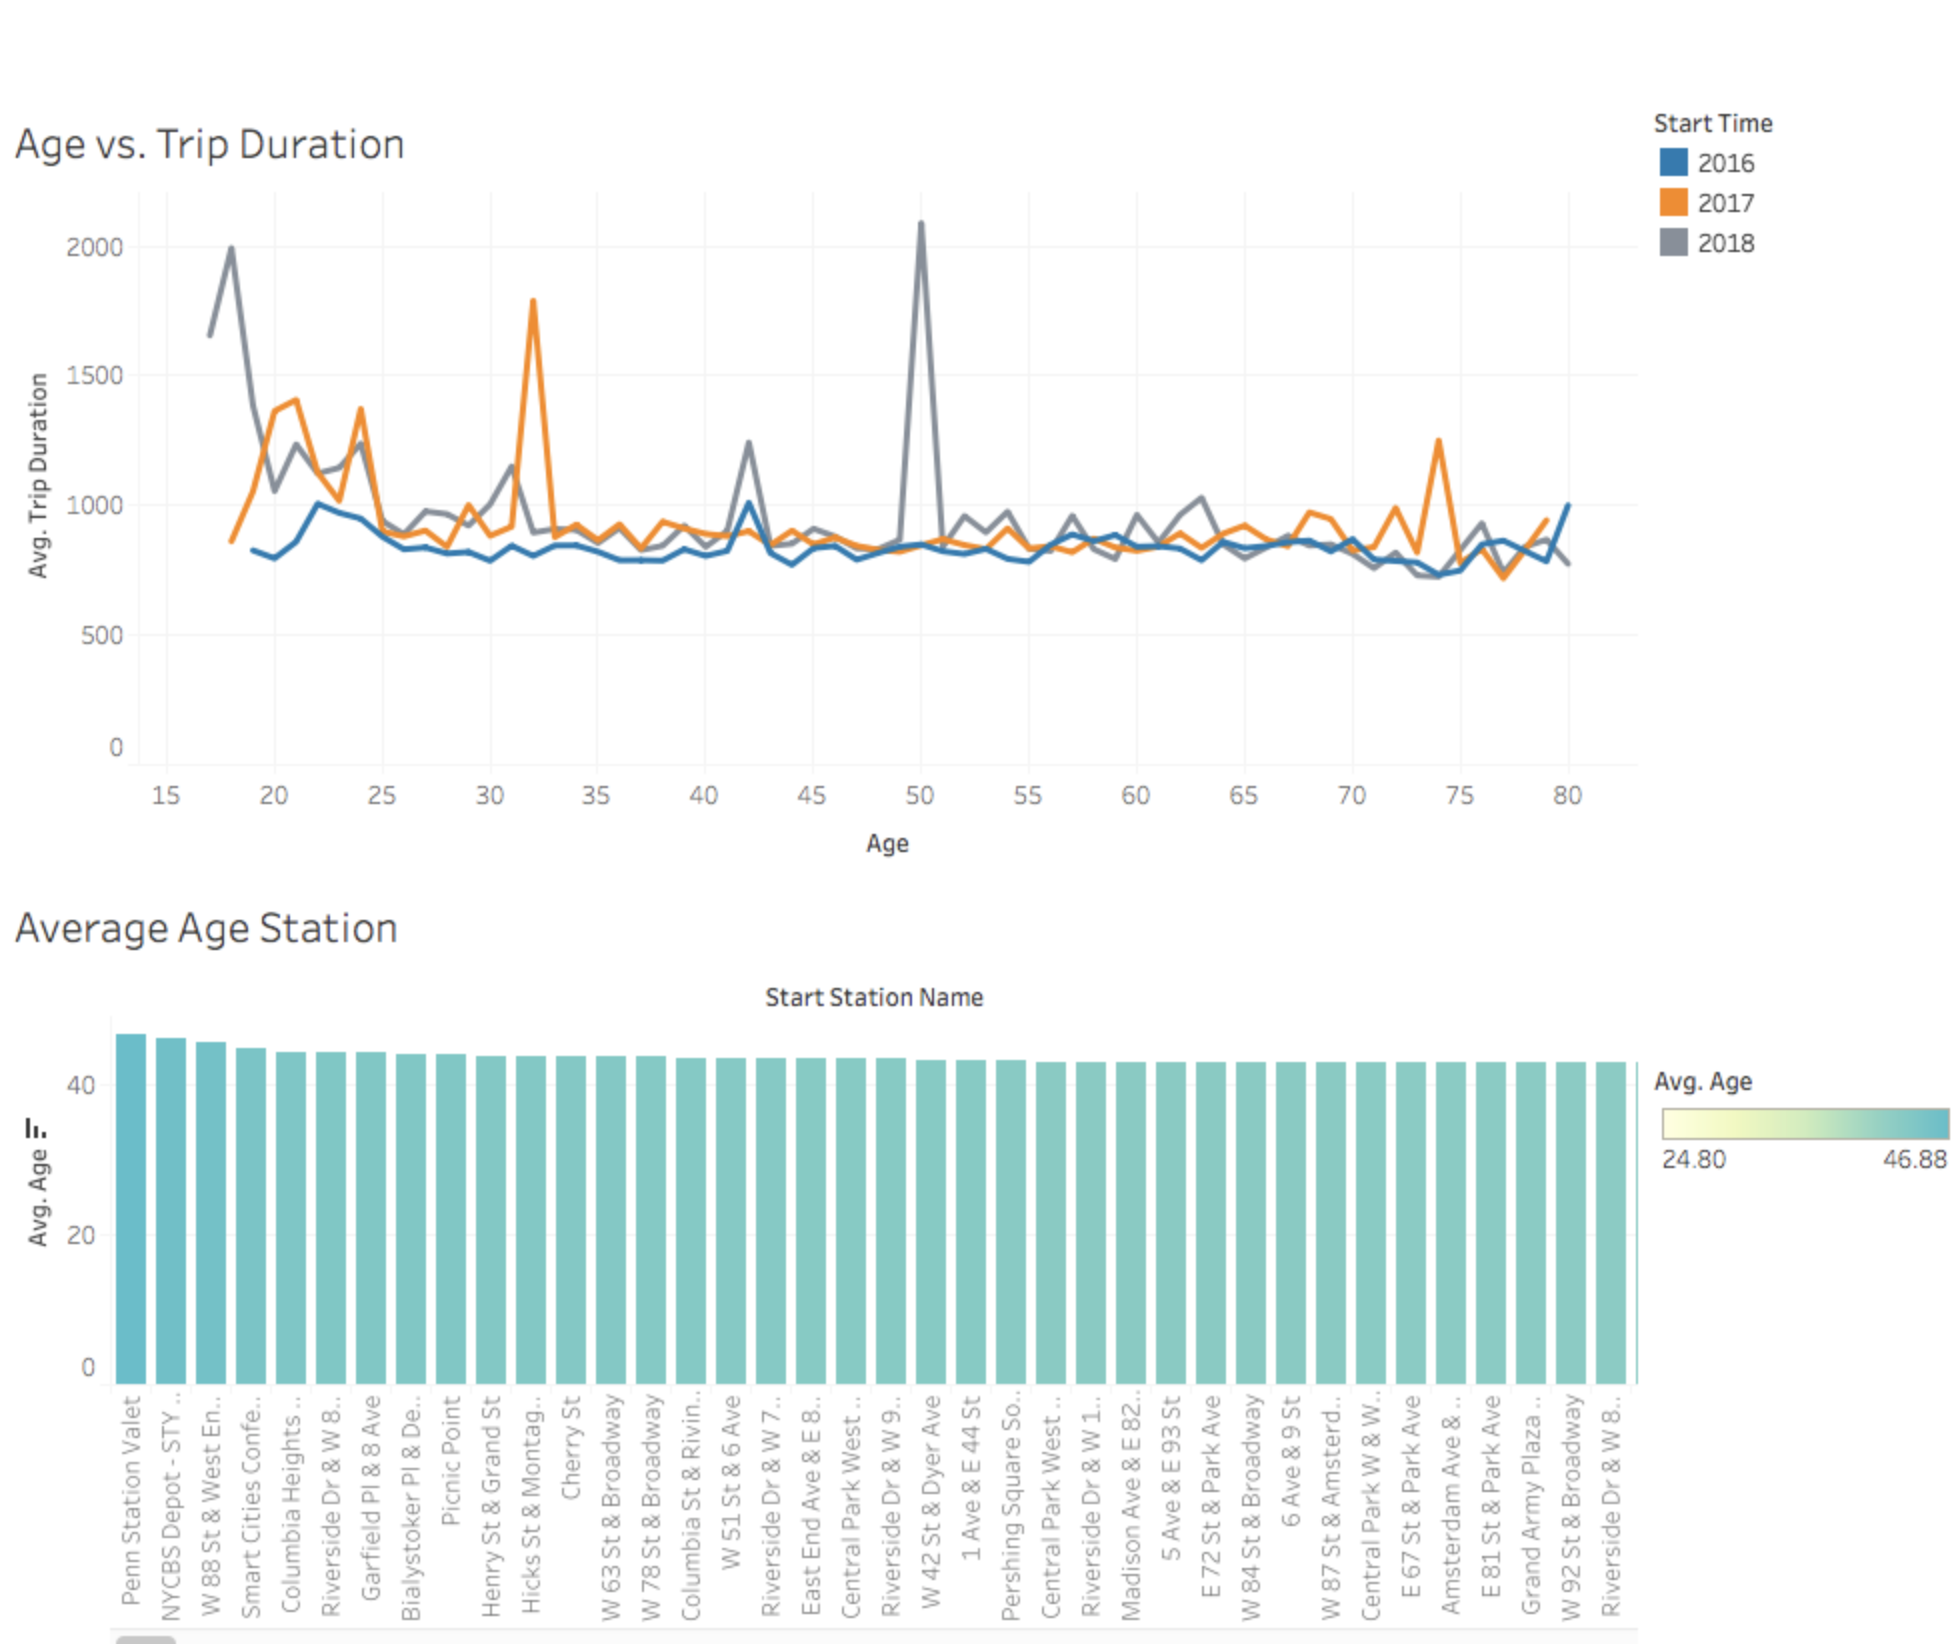

This screenshot's page, from the dashboard's own definition file:
{"tool":"tableau","page":{"name":"Age Analysis","canvas":[1000,800],"ordinal":0},"visuals":[{"type":"worksheet","title":"Age vs. Trip Duration","mark":"Automatic","rows":["Trip Duration"],"cols":["Calculation_1114218755592425472"],"box":[8,8,824,392]},{"type":"legend","title":"Age vs. Trip Duration","param":"[federated.0inejtl1ina4ko10so5a61pe29fi].[yr:Start Time:ok]","box":[832,8,160,479]},{"type":"worksheet","title":"Average Age Station","mark":"Bar","rows":["Calculation_1114218755592425472"],"cols":["Start Station Name"],"box":[8,400,824,392]},{"type":"legend","title":"Average Age Station","param":"[federated.0inejtl1ina4ko10so5a61pe29fi].[avg:Calculation_1114218755592425472:qk","box":[832,487,160,65]}]}

Visuals, with their boxes on the page's 1000x800 design canvas (x1, y1, x2, y2). These are canvas units, not pixel positions in the 1956x1644 screenshot, which may show the page scaled, cropped or inside an application window:
"Age vs. Trip Duration" worksheet: bbox=(8, 8, 832, 400)
"Age vs. Trip Duration" legend: bbox=(832, 8, 992, 487)
"Average Age Station" worksheet (Bar marks): bbox=(8, 400, 832, 792)
"Average Age Station" legend: bbox=(832, 487, 992, 552)
